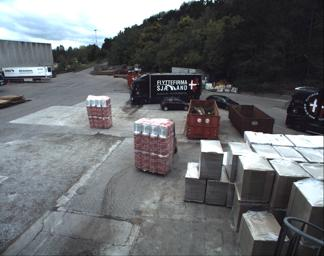rockwool_batts: (133, 116, 172, 174), (86, 93, 112, 127)
